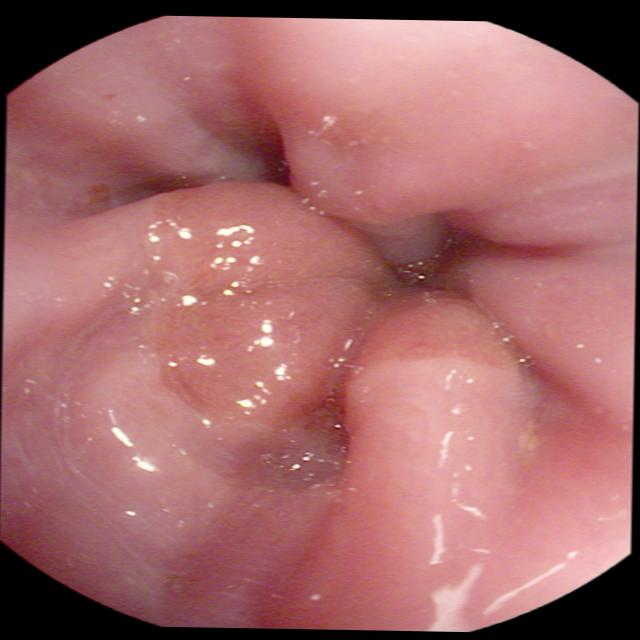Normal-Z-Line: (156, 161, 528, 498)
